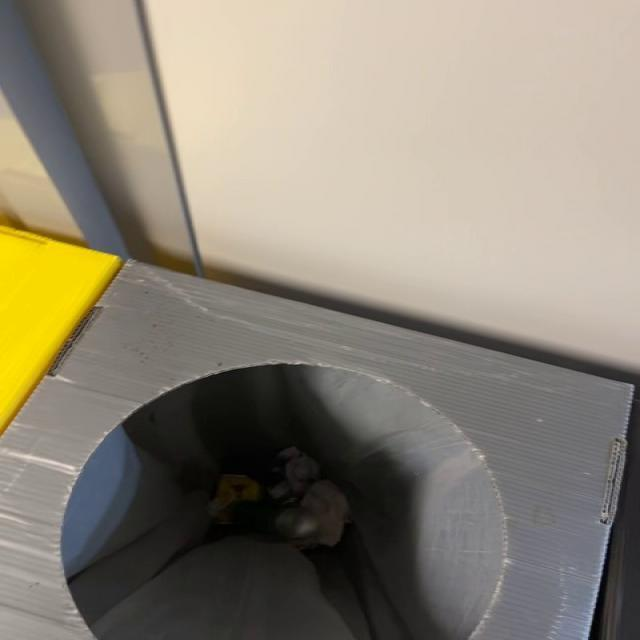Bin: (1, 263, 632, 640)
